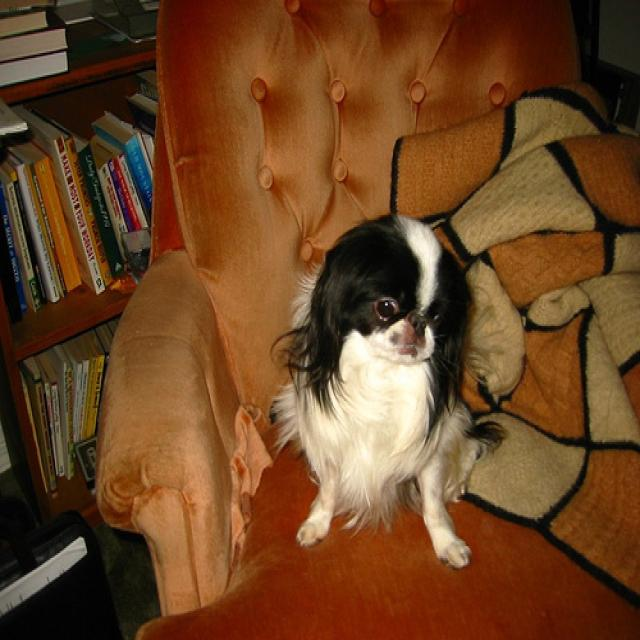dog-japanese_chin: (266, 208, 511, 584)
